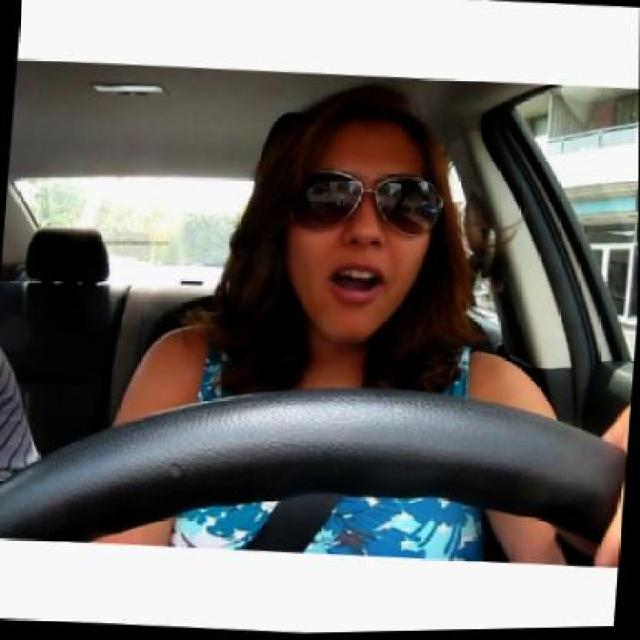inattentif: (276, 76, 449, 355)
